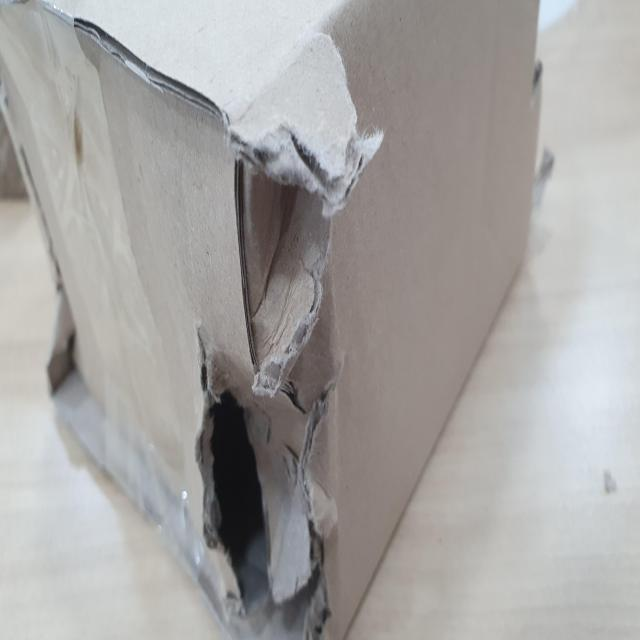damaged: (198, 57, 338, 636)
